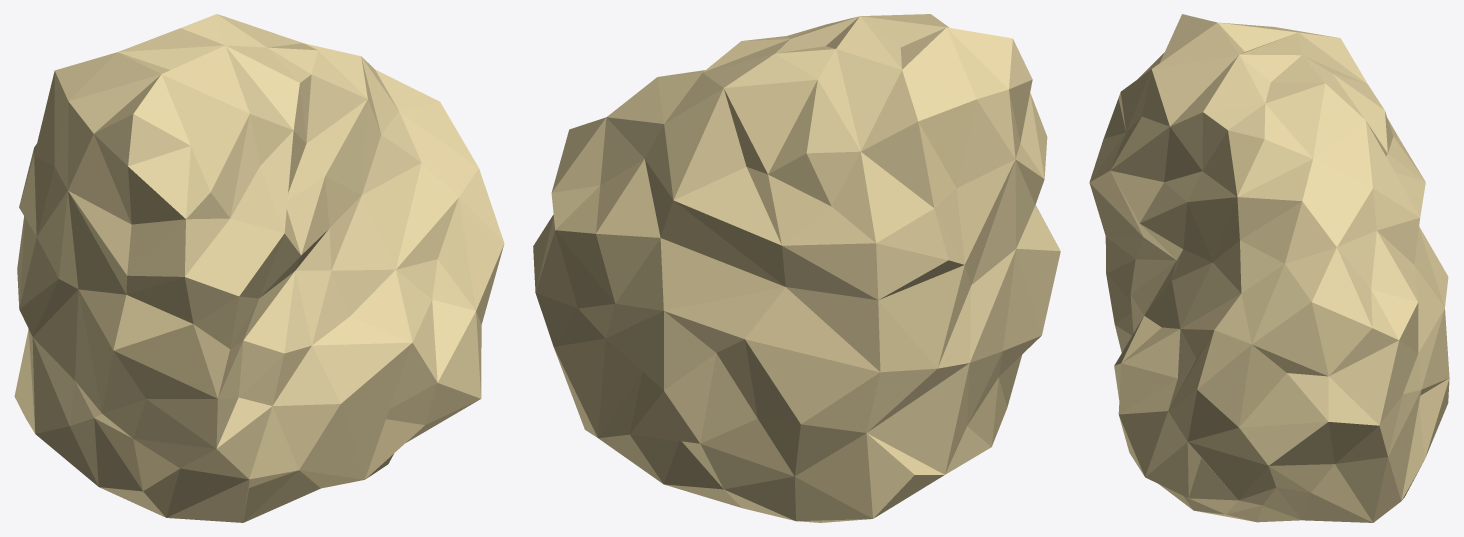
The model's file is Asteroid (67).fbx.
3 views of the same model, side by side, from view 1: azimuth 30°, elevation 25°; view 2: azimuth 150°, elevation 25°; view 3: azimuth 270°, elevation 25° (orthographic). The views are drawn at different scales.
Parts seen in each view (by area): view 1: Asteroid180; view 2: Asteroid180; view 3: Asteroid180.
Boxes of the visible parts, bbox=[...] form: Asteroid180: bbox=[14, 14, 504, 522]; Asteroid180: bbox=[533, 14, 1060, 522]; Asteroid180: bbox=[1089, 14, 1449, 522].
Size of the model in its own units: 521 by 529 by 407.
